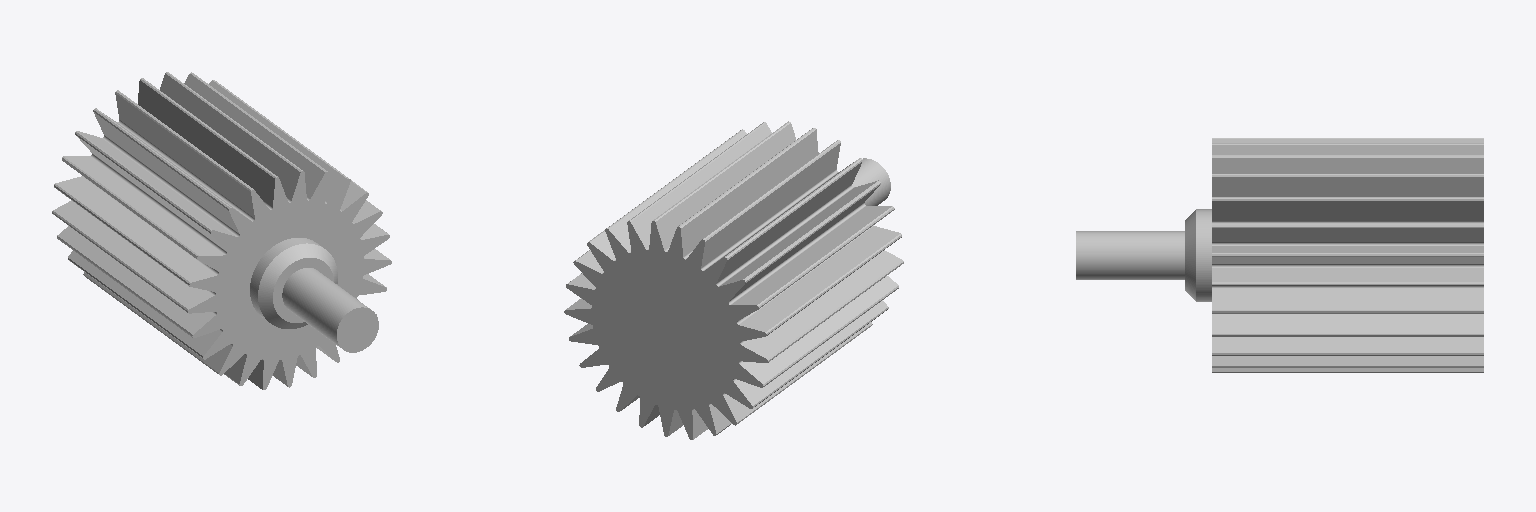
The model's file is Sun Gear.obj.
The picture shows the model from 3 angles: view 1: azimuth 30°, elevation 25°; view 2: azimuth 150°, elevation 25°; view 3: azimuth 270°, elevation 25°; orthographic projection.
Parts seen in each view (by area): view 1: mesh5, mesh46, mesh55, mesh44, mesh1, mesh53, mesh57, mesh42, mesh48, mesh9, mesh51, mesh3 (+11 smaller); view 2: mesh7, mesh46, mesh55, mesh44, mesh53, mesh57, mesh42, mesh48, mesh9, mesh51, mesh40, mesh50 (+7 smaller); view 3: mesh19, mesh10, mesh12, mesh21, mesh1, mesh8, mesh23, mesh14, mesh17, mesh25, mesh56, mesh15 (+18 smaller).
Boxes of the visible parts, x1,y1,x2,y2 form: mesh5: [188, 171, 391, 389]; mesh46: [55, 176, 216, 282]; mesh55: [138, 80, 274, 206]; mesh44: [53, 200, 213, 309]; mesh1: [282, 268, 369, 347]; mesh53: [115, 93, 254, 217]; mesh57: [160, 73, 300, 200]; mesh42: [57, 226, 215, 334]; mesh48: [64, 156, 223, 255]; mesh9: [184, 74, 324, 198]; mesh51: [94, 112, 238, 232]; mesh3: [258, 243, 337, 328]; mesh7: [564, 221, 767, 439]; mesh46: [740, 226, 900, 331]; mesh55: [681, 129, 818, 256]; mesh44: [742, 250, 902, 358]; mesh53: [701, 143, 840, 267]; mesh57: [656, 123, 795, 250]; mesh42: [741, 276, 898, 383]; mesh48: [732, 206, 891, 304]; mesh9: [631, 123, 771, 248]; mesh51: [717, 162, 861, 282]; mesh40: [734, 300, 887, 405]; mesh50: [721, 180, 878, 285]; mesh19: [1212, 289, 1483, 309]; mesh10: [1212, 177, 1483, 196]; mesh12: [1212, 201, 1483, 220]; mesh21: [1212, 314, 1483, 333]; mesh1: [1076, 231, 1184, 279]; mesh8: [1212, 158, 1483, 173]; mesh23: [1212, 337, 1483, 352]; mesh14: [1212, 228, 1483, 241]; mesh17: [1212, 268, 1483, 281]; mesh25: [1212, 356, 1483, 365]; mesh56: [1212, 145, 1483, 154]; mesh15: [1212, 246, 1483, 252].
Bounding box in the file's own units: 0.0217 × 0.0217 × 0.0375.